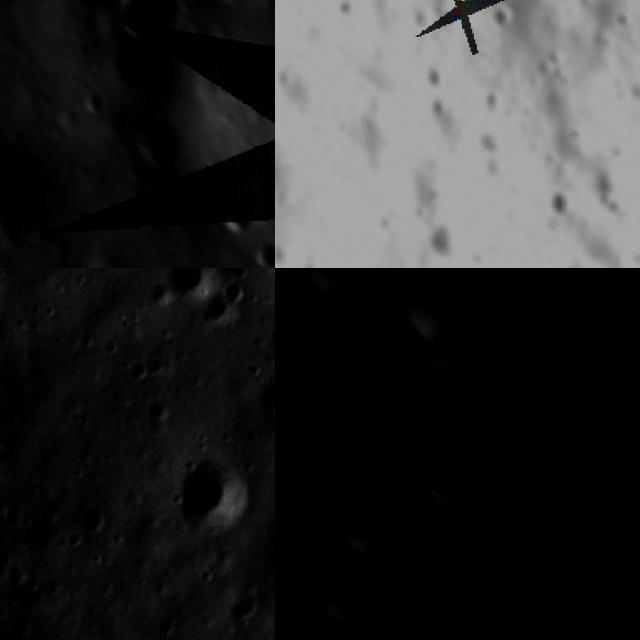crater: (462, 363, 592, 490), (376, 268, 483, 357), (176, 446, 262, 539), (398, 311, 488, 397), (405, 444, 491, 529), (325, 491, 400, 565), (275, 477, 320, 592), (125, 112, 194, 180), (306, 565, 374, 634), (107, 0, 195, 49), (419, 204, 486, 268), (202, 181, 262, 239), (296, 278, 355, 336), (291, 268, 368, 310), (322, 378, 371, 427), (393, 413, 439, 460), (529, 248, 621, 268), (539, 187, 585, 227), (574, 268, 621, 307), (275, 412, 301, 481), (160, 268, 222, 292), (70, 88, 109, 121), (243, 229, 275, 268), (107, 253, 164, 268), (222, 275, 250, 303), (131, 356, 154, 386), (331, 637, 410, 640)
